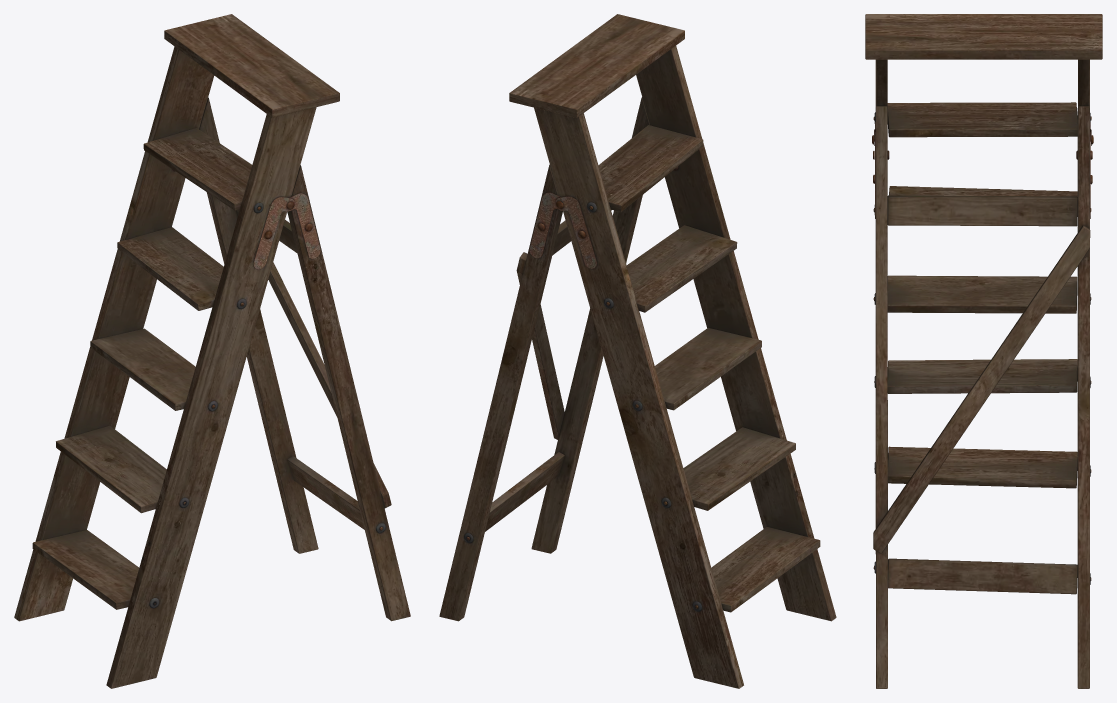
The model's file is wooden_ladder_02.glb.
3 views of the same model, side by side, from view 1: azimuth 30°, elevation 25°; view 2: azimuth 150°, elevation 25°; view 3: azimuth 270°, elevation 25° (orthographic). The views are drawn at different scales.
Parts seen in each view (by area): view 1: wooden_ladder_02; view 2: wooden_ladder_02; view 3: wooden_ladder_02.
Part boxes in pixels (box(x1,y1,x2,y2)): wooden_ladder_02: box(14, 14, 410, 688); wooden_ladder_02: box(439, 14, 836, 688); wooden_ladder_02: box(865, 14, 1102, 688).
Size of the model in its own units: 0.9895 by 1.72 by 0.6181.
Materials: 1 (1 with a texture image).
